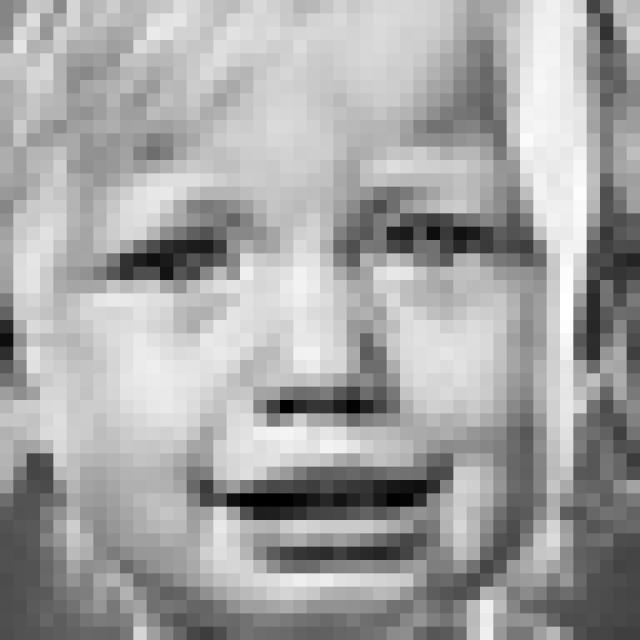sad: (94, 186, 526, 574)
